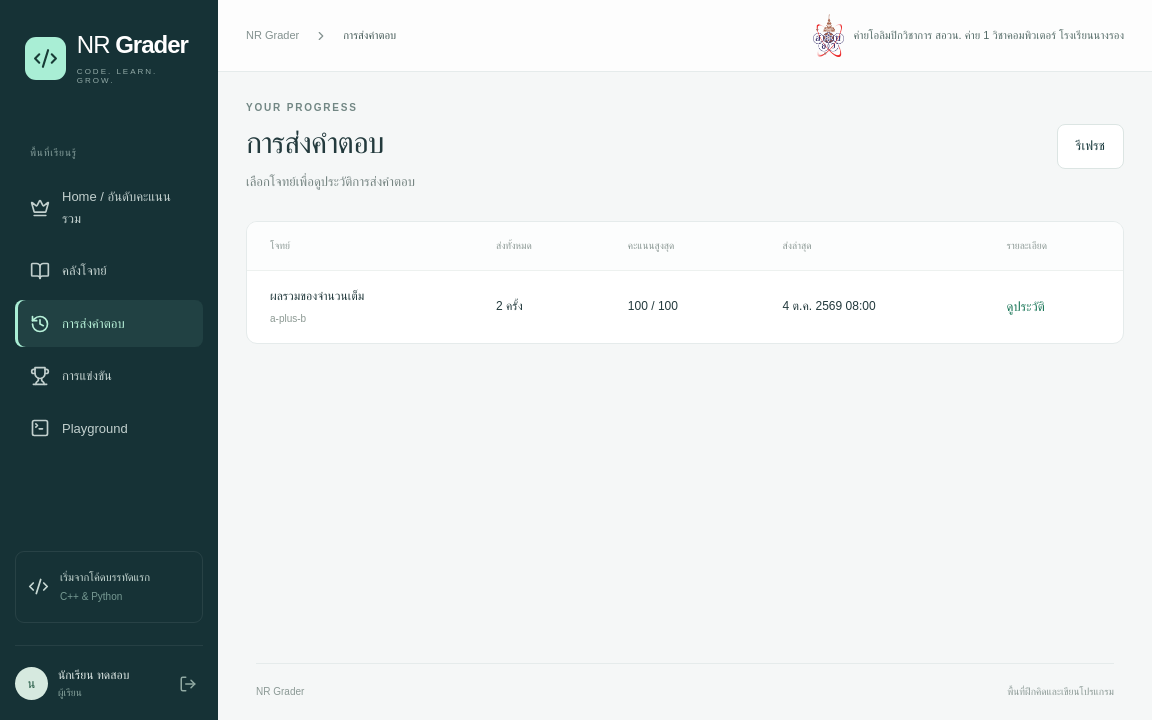
Test: NR Grader user workflows › groups submissions by problem and opens its history
Click the link "ดูประวัติ". click: [1026, 307]
box: [1006,296,1045,318]
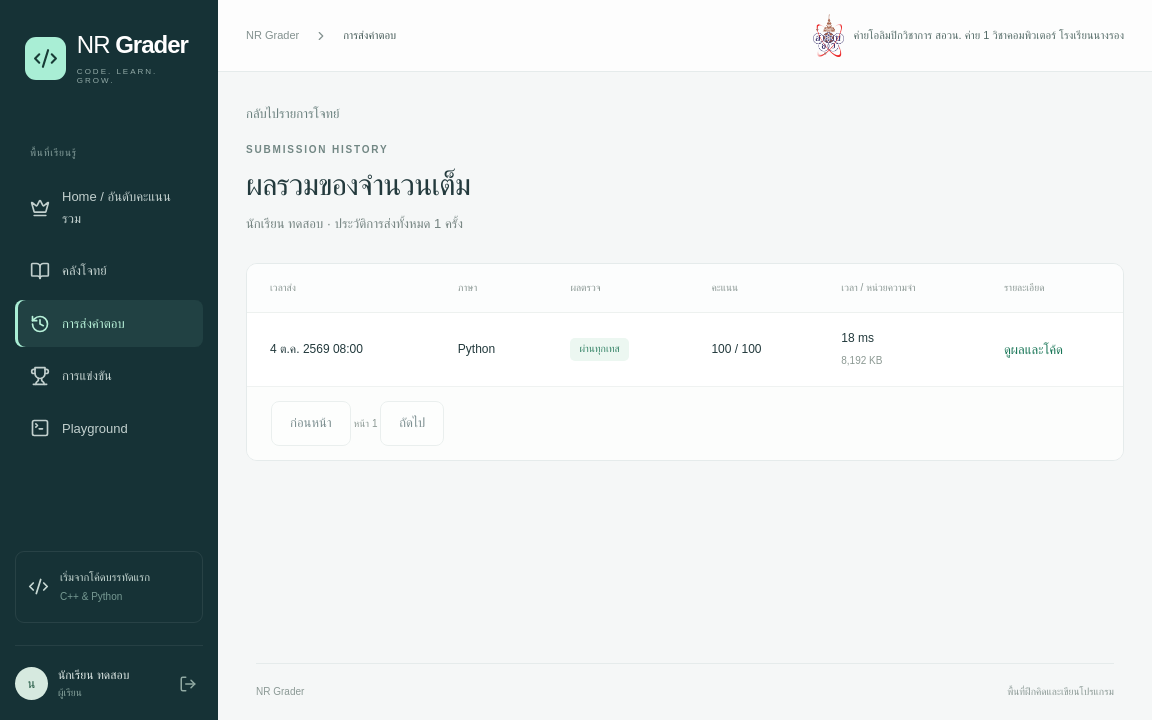
Now the link "ดูผลและโค้ด" is shown, box [1004,339,1063,360]
